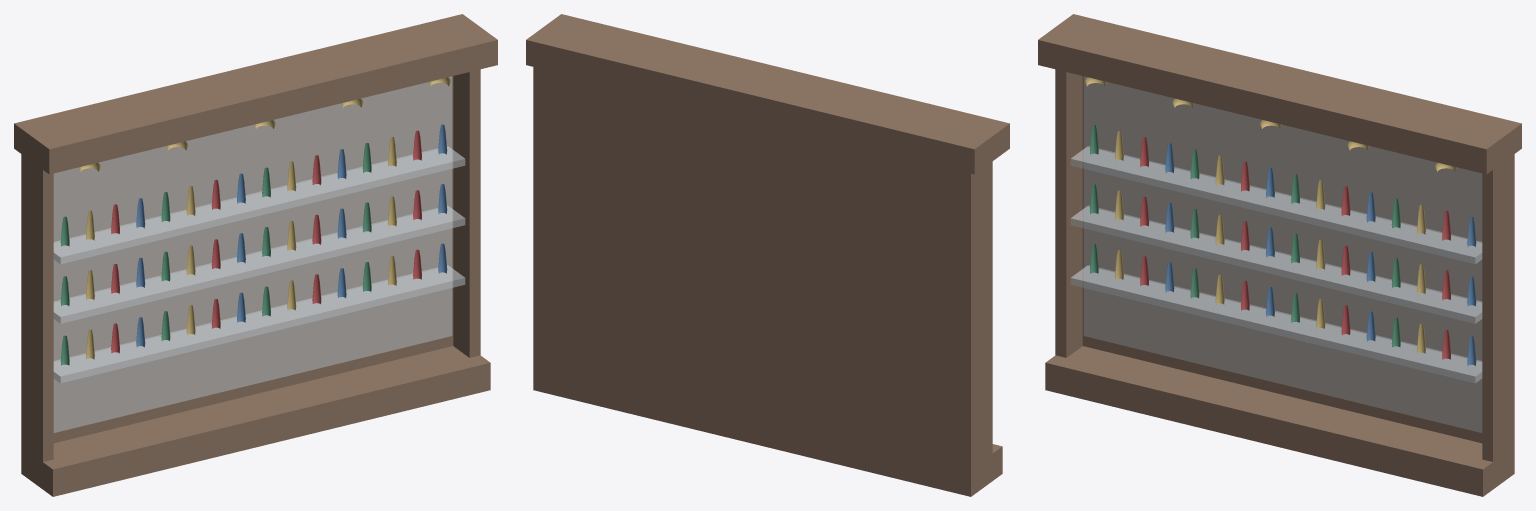
File: casBackBar.glb
The picture shows the model from 3 angles, left to right: view 1: azimuth 30°, elevation 25°; view 2: azimuth 150°, elevation 25°; view 3: azimuth 330°, elevation 25°; orthographic projection.
Parts seen in each view (by area): view 1: back-bar; view 2: back-bar; view 3: back-bar.
Part boxes in pixels (bbox=[...]): back-bar: bbox=[14, 14, 497, 496]; back-bar: bbox=[526, 14, 1009, 496]; back-bar: bbox=[1038, 14, 1521, 496].
Size of the model in its own units: 4.1 by 3.06 by 0.5601.
